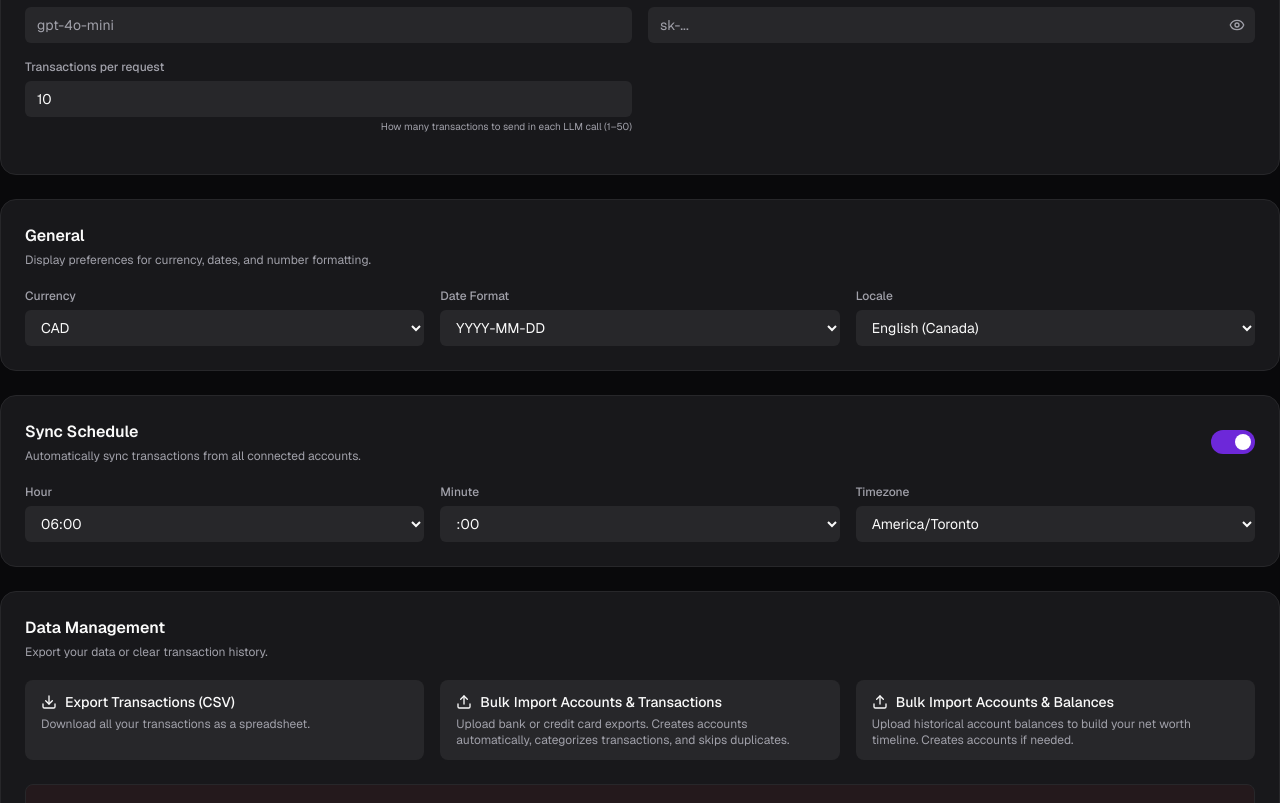
Test: SettingsPage › SyncSection save flash › shows 'Schedule saved' after saving sync settings
The width and height of the screenshot is (1280, 803).
(page scrolled)
Step 1. Click the switch named "Enable automatic sync" → (1233, 442), box [1211, 430, 1255, 454]
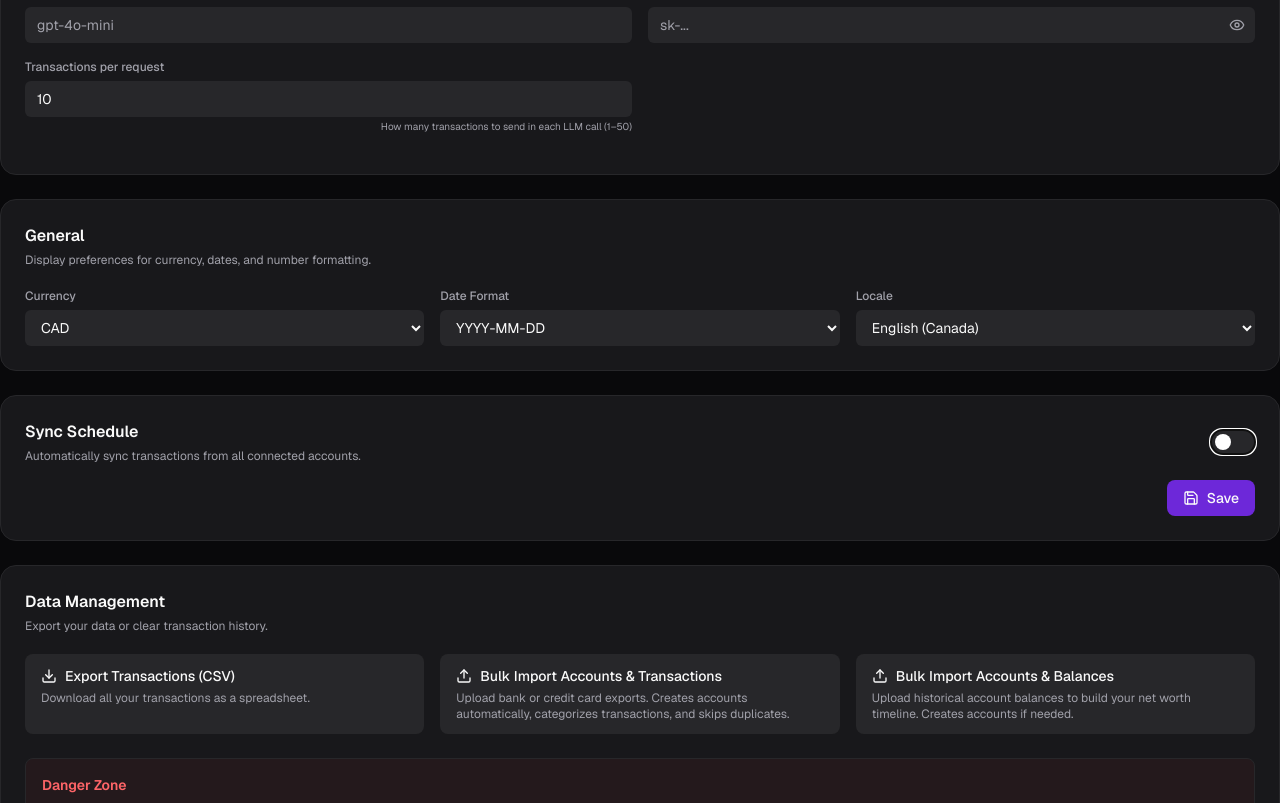
Step 2. Click the button "Save" → (1211, 498), box [1167, 480, 1255, 516]
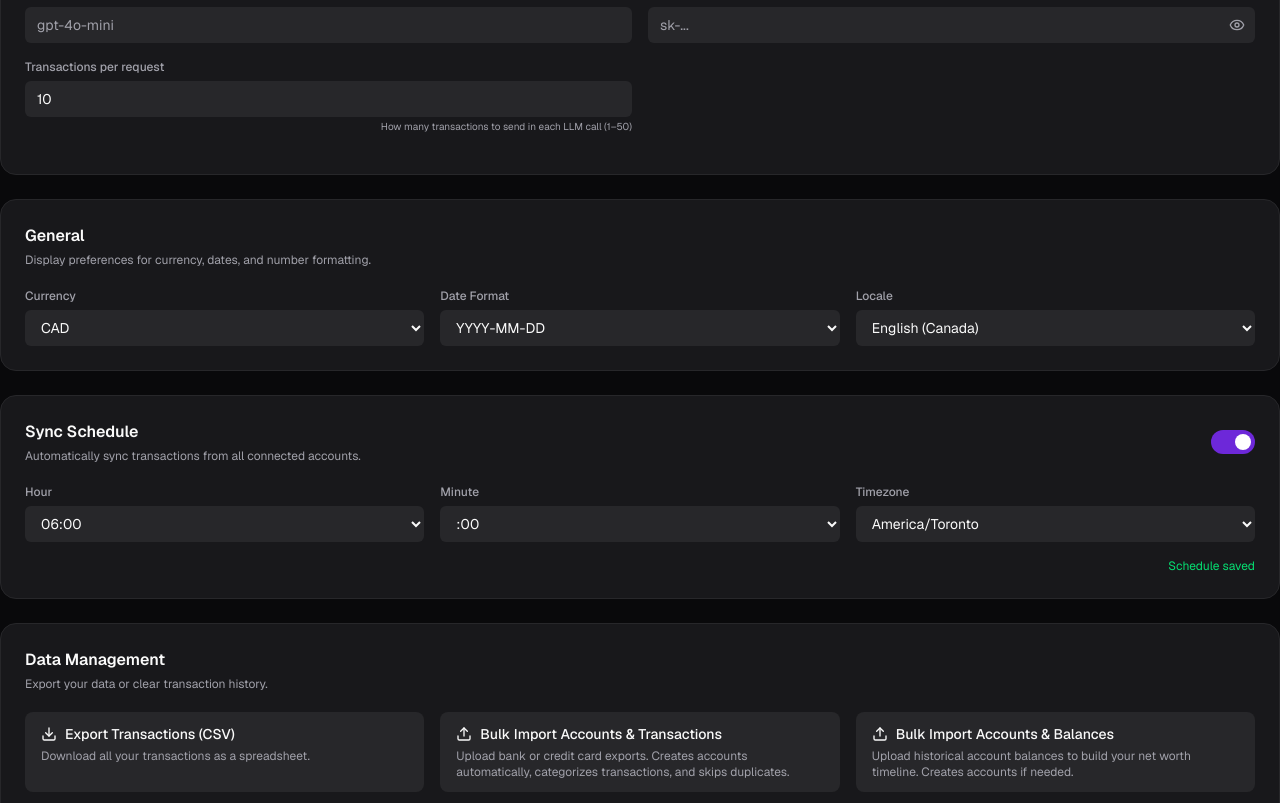
Expected: the text "Schedule saved" is shown, [1168, 558, 1255, 574]
